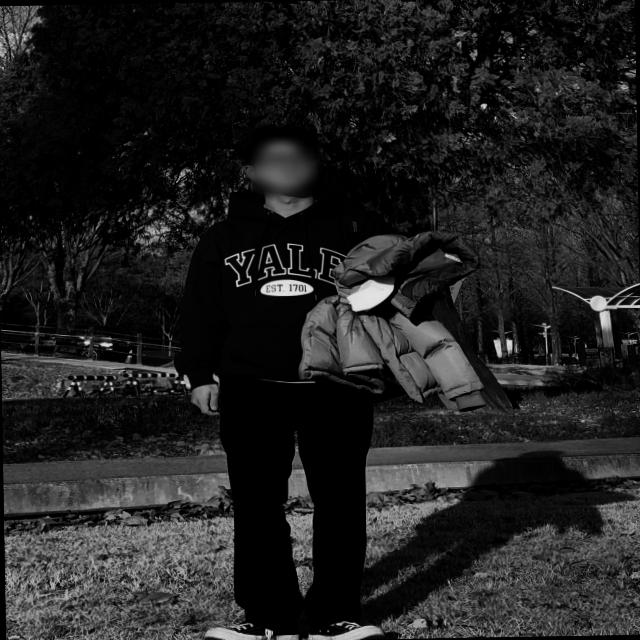hoodies: (171, 181, 425, 395)
slacks: (216, 369, 374, 628)
